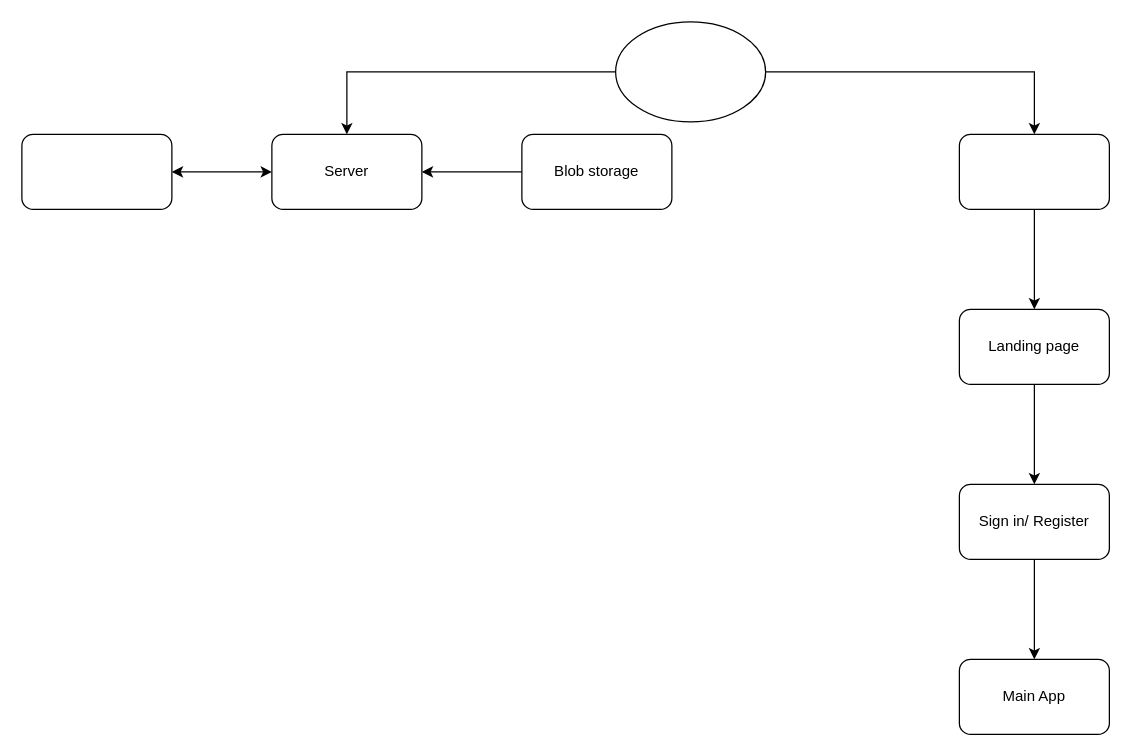
The diagram is 1131 pixels wide and 756 high, and some of its shapes have lost their labels. The shapes that lost their labels are listed below. From the top down, each one's box as (x1, y1, x2, y2) in pixels, then its label:
(614, 21, 766, 122): Start
(21, 133, 172, 209): Data base
(958, 133, 1109, 209): Website
